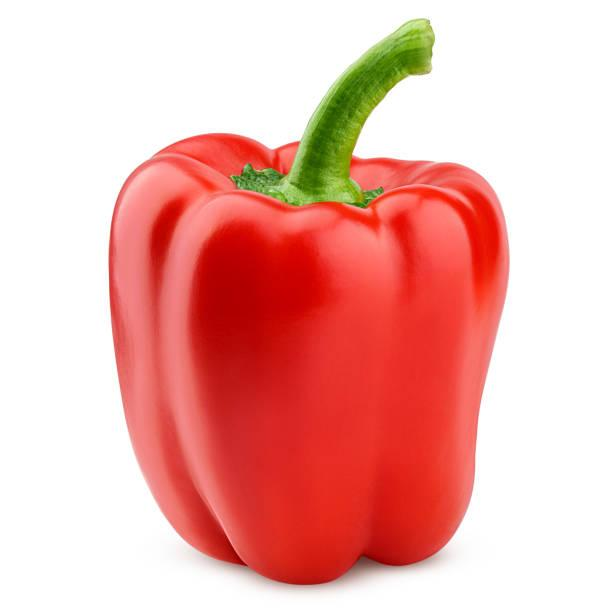Capsicum: (110, 19, 508, 584)
